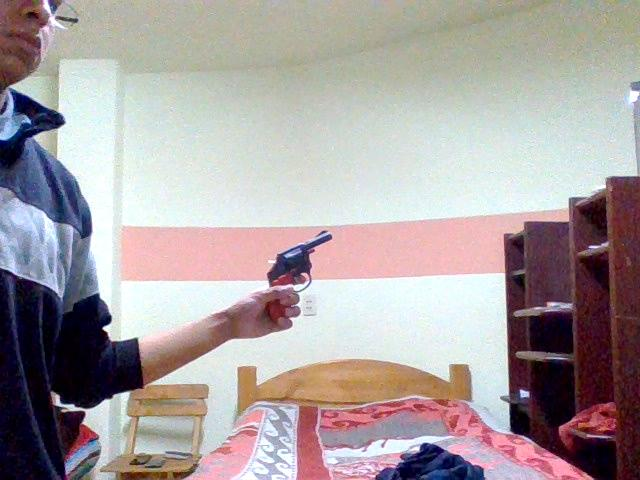pistol: (232, 213, 360, 377)
